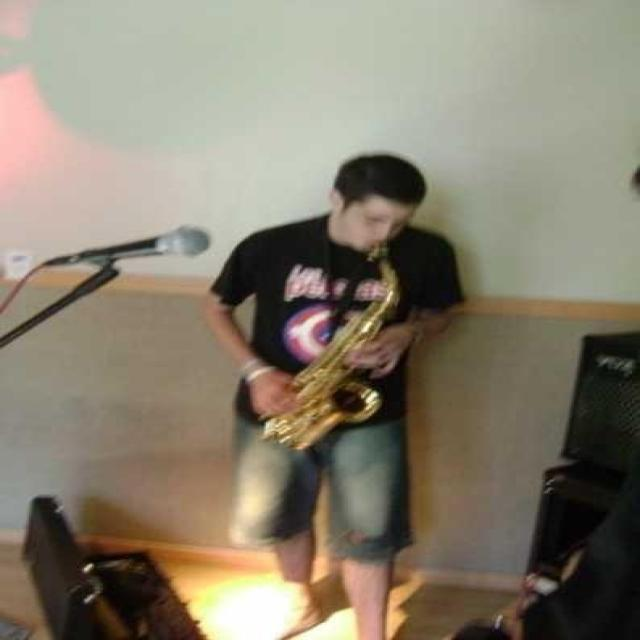saxophone: (259, 244, 401, 454)
